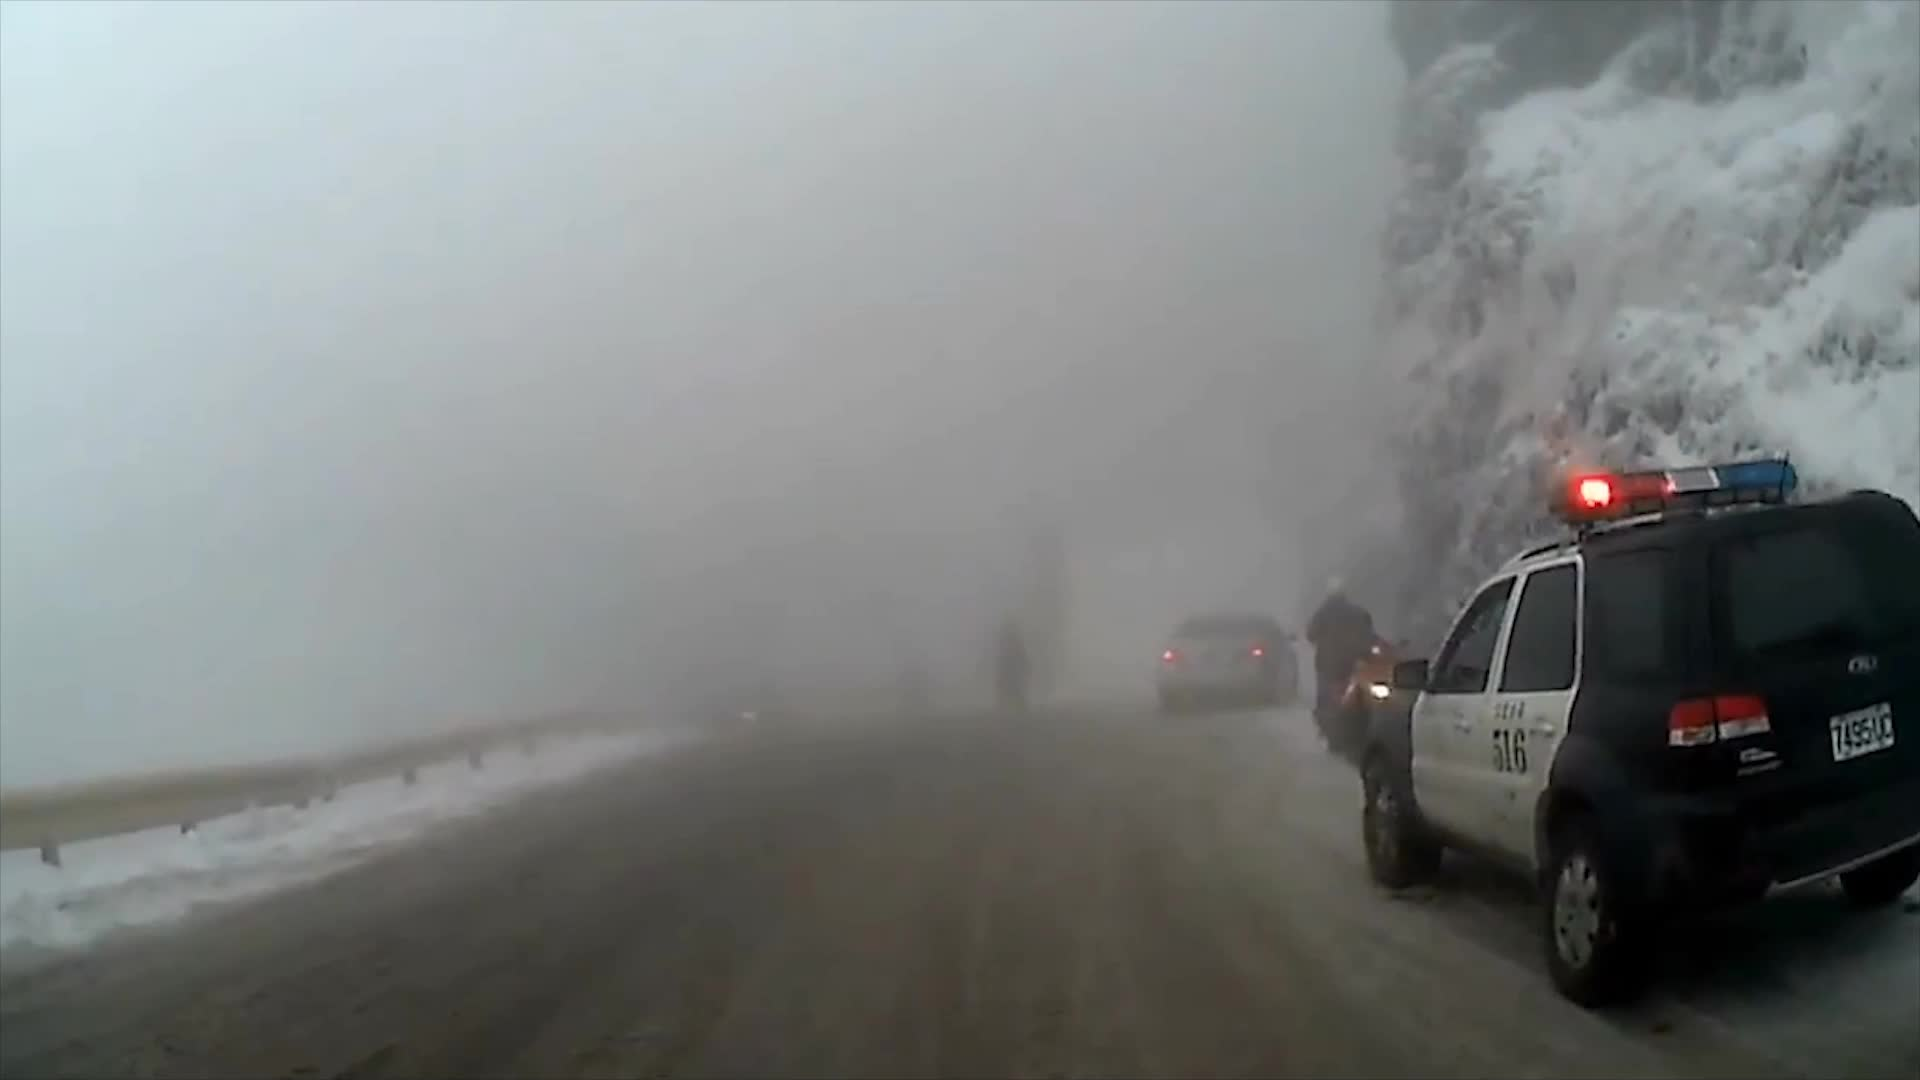pedestrian: (1305, 578, 1382, 745)
vehicle: (1355, 454, 1919, 1014), (1157, 606, 1302, 712)
